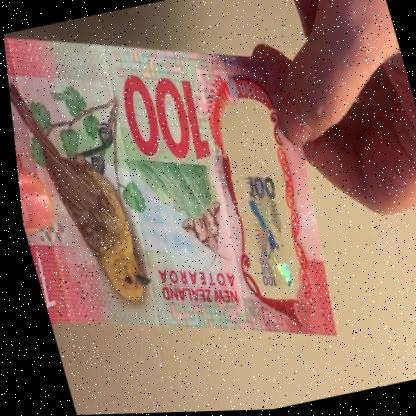100B: (221, 149, 301, 297)
